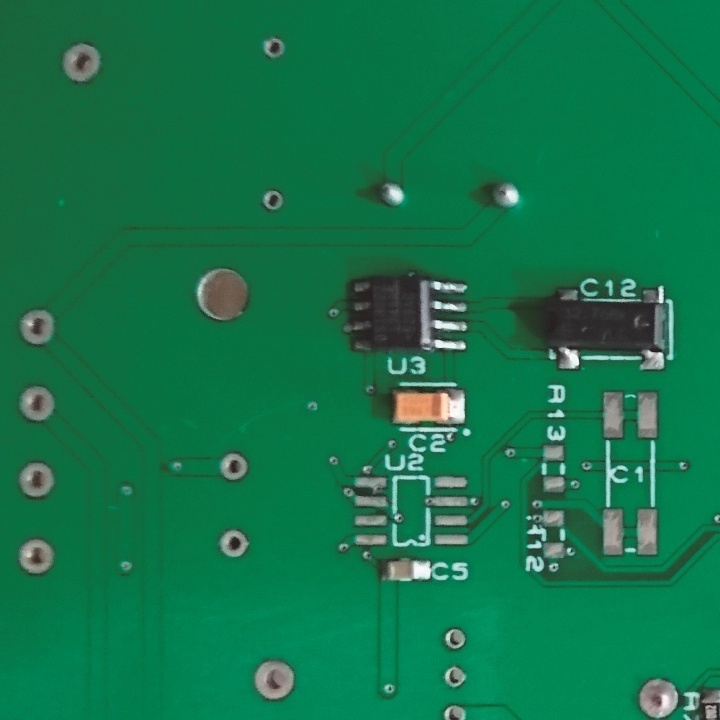F: (249, 657, 301, 704), (54, 41, 106, 86), (636, 675, 682, 720), (13, 536, 58, 578), (16, 460, 59, 503), (16, 384, 57, 426), (16, 306, 56, 349), (213, 526, 250, 563), (217, 450, 250, 483), (261, 32, 287, 65), (443, 663, 470, 692), (259, 187, 286, 214), (443, 626, 469, 653), (441, 701, 475, 720)
